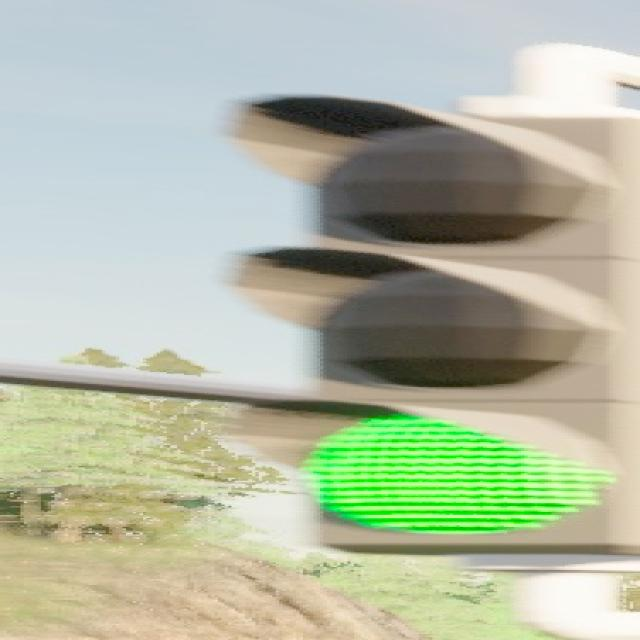green_light: (175, 81, 640, 557)
